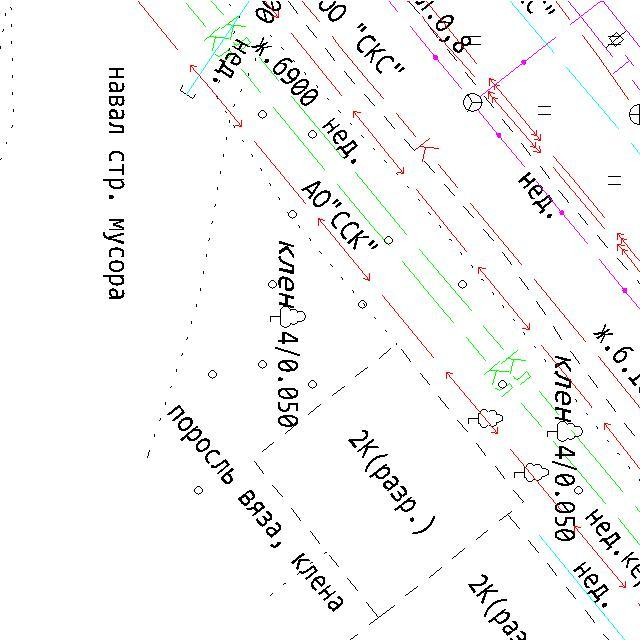tree: (269, 305, 307, 330), (512, 461, 551, 484), (467, 406, 504, 429), (546, 421, 584, 443)
well: (461, 91, 485, 114)
